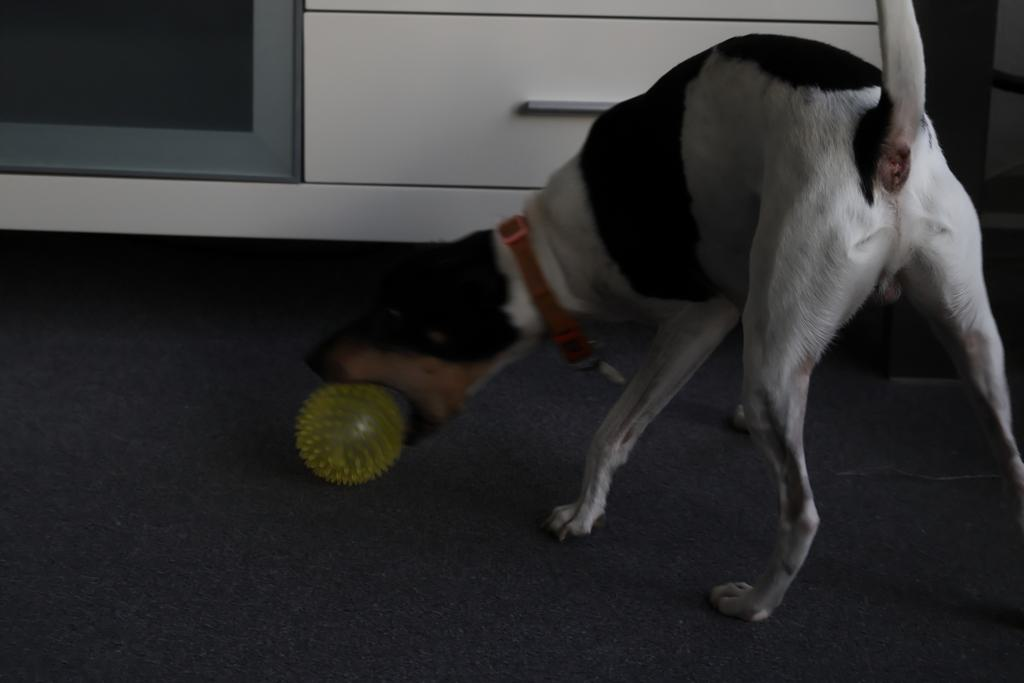Dog: (294, 0, 1024, 628)
